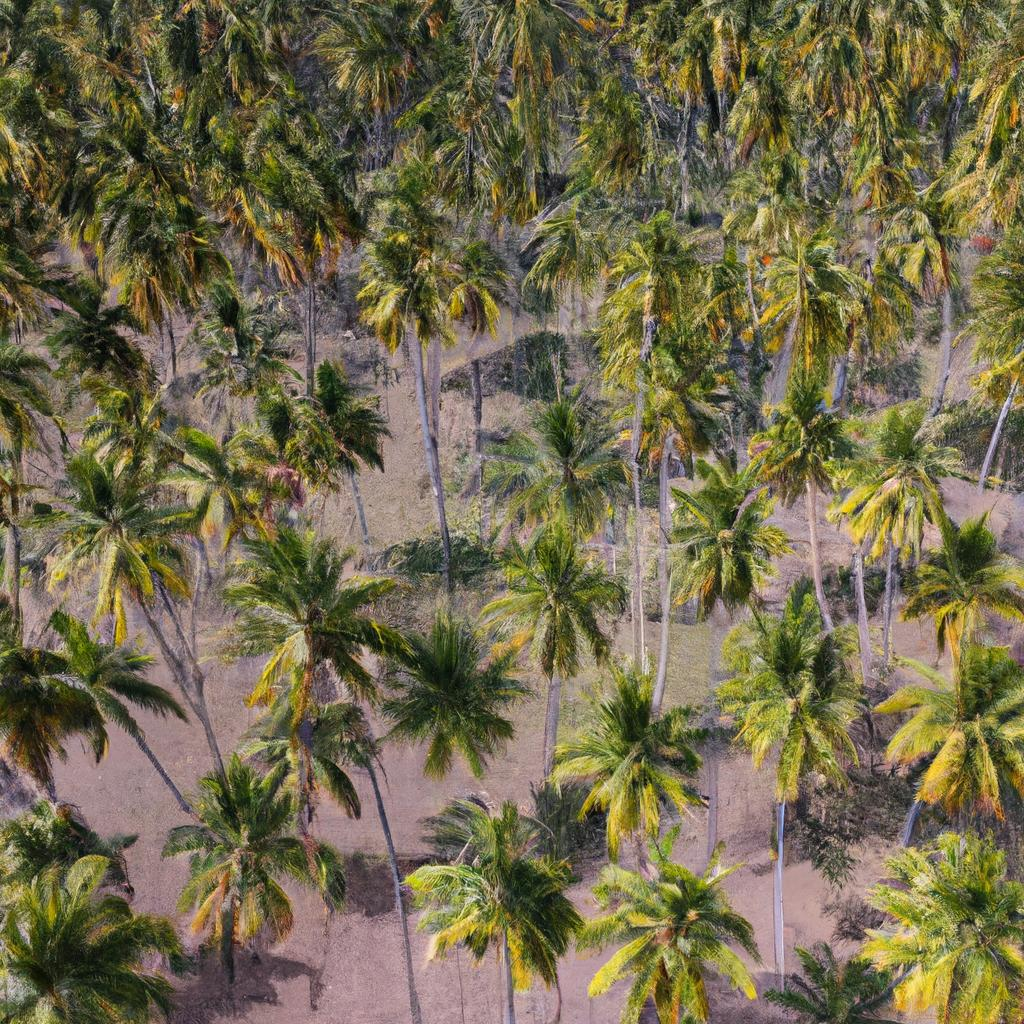coconut_tree: (410, 786, 589, 991), (151, 764, 347, 945), (712, 608, 891, 801), (204, 531, 401, 705), (856, 828, 1023, 1023), (556, 672, 724, 847), (877, 629, 1023, 824), (32, 461, 208, 612), (474, 532, 642, 672), (475, 393, 640, 529), (651, 454, 801, 594), (498, 386, 632, 537), (348, 228, 466, 350)
